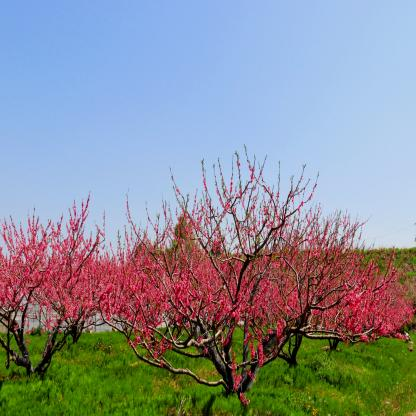Momo: (94, 144, 320, 406), (0, 190, 99, 364), (316, 195, 416, 347), (253, 182, 335, 364), (50, 239, 111, 330)
